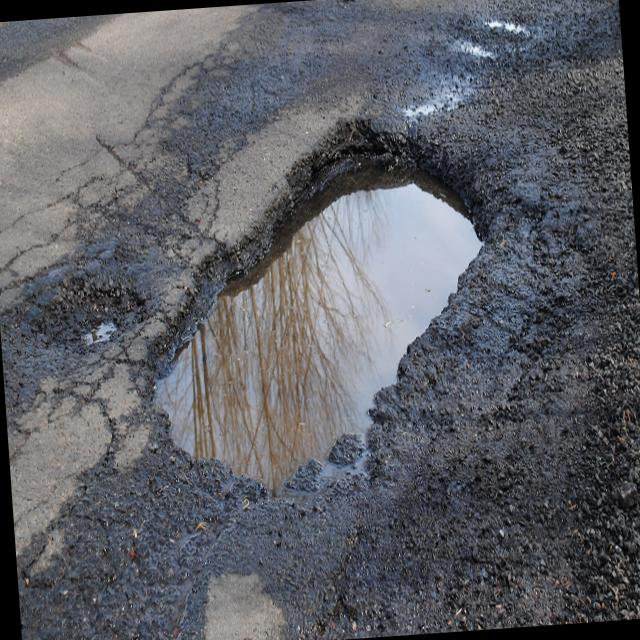Potholes: (124, 126, 502, 537)
